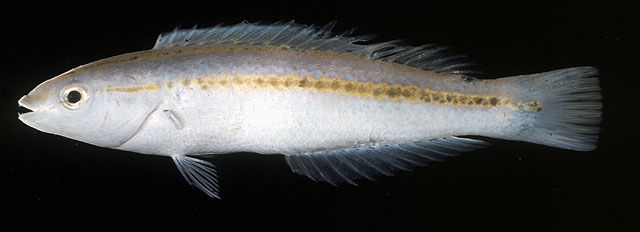fish: (20, 20, 604, 200)
